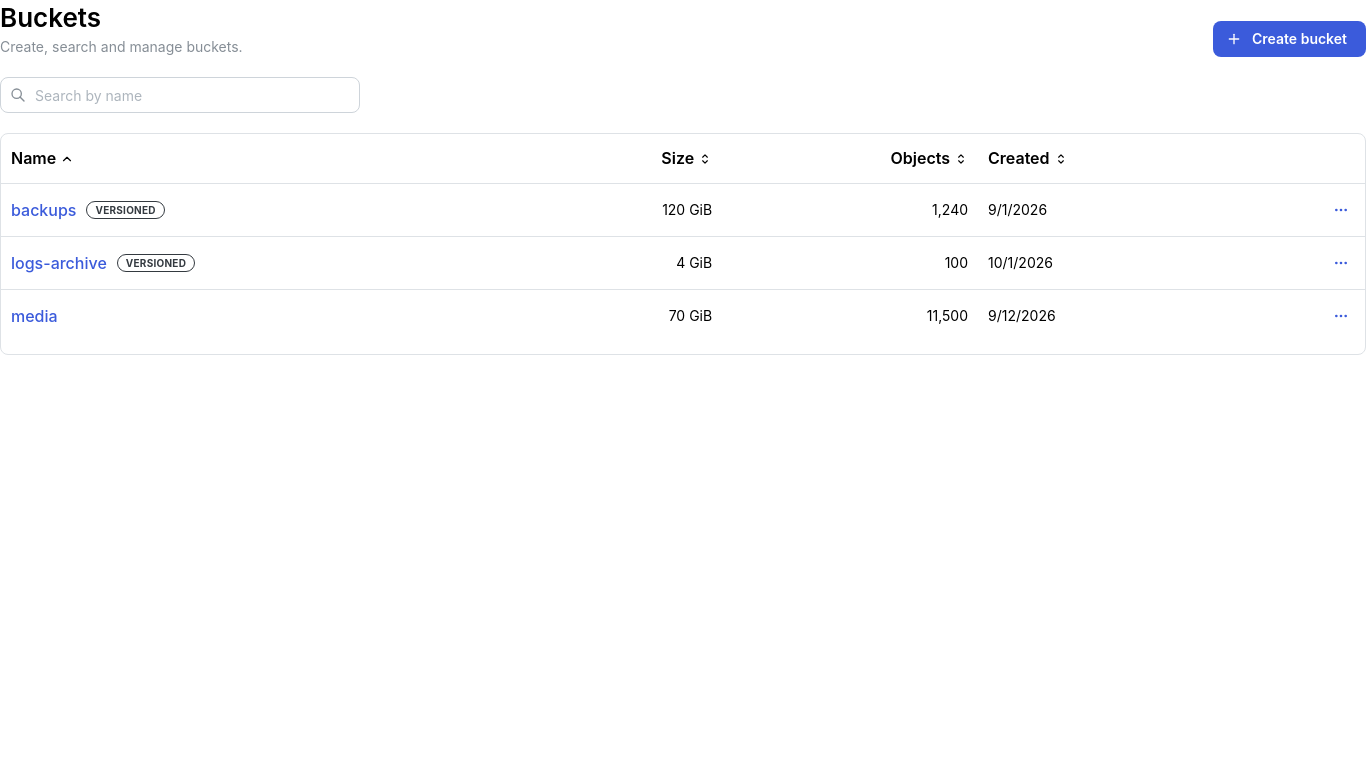
BucketsPage (TD-U-03) › deletes a bucket after typing its name, offering force for a non-empty one
The image size is (1366, 768).
Click the button named "Actions for media".
click(1341, 316)  # box x1=1327 y1=302 x2=1355 y2=330
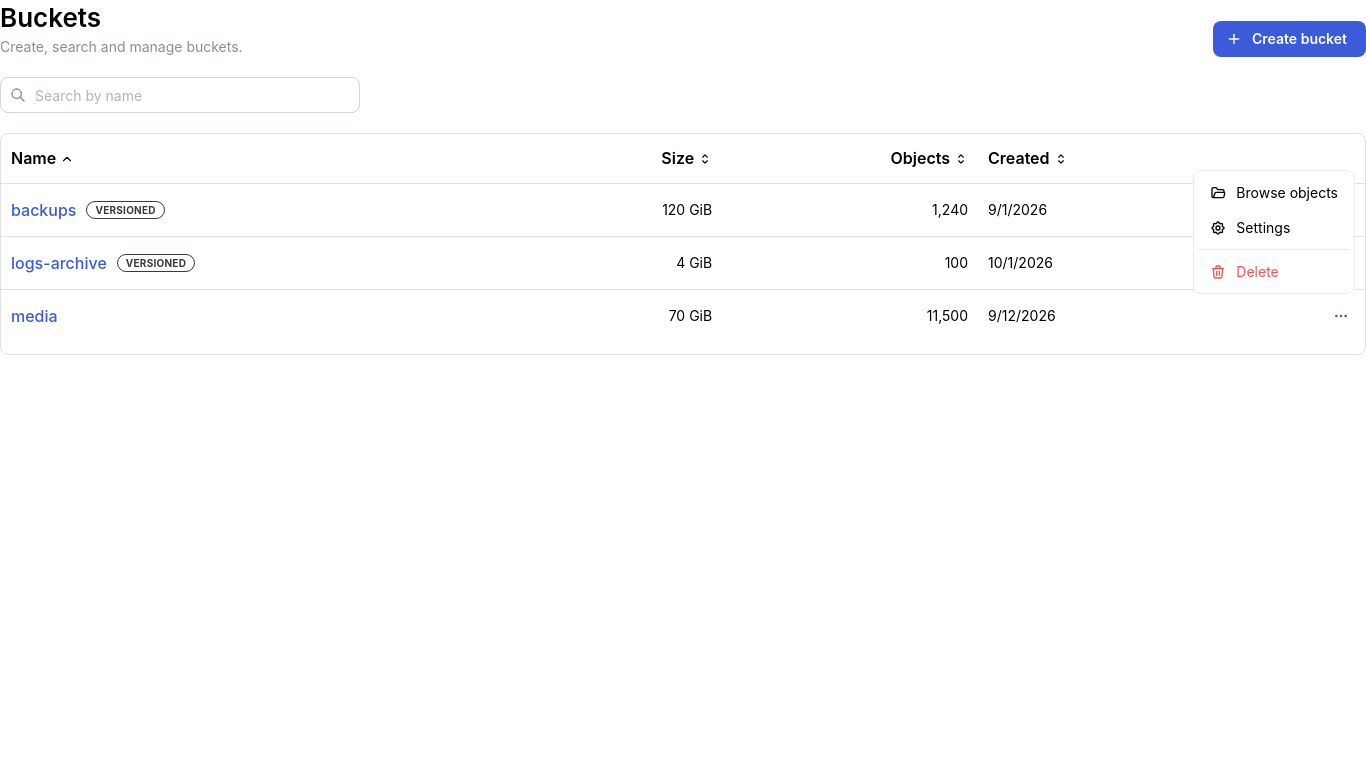
Click the menu item "Delete".
click(1274, 272)  # box x1=1198 y1=254 x2=1350 y2=289
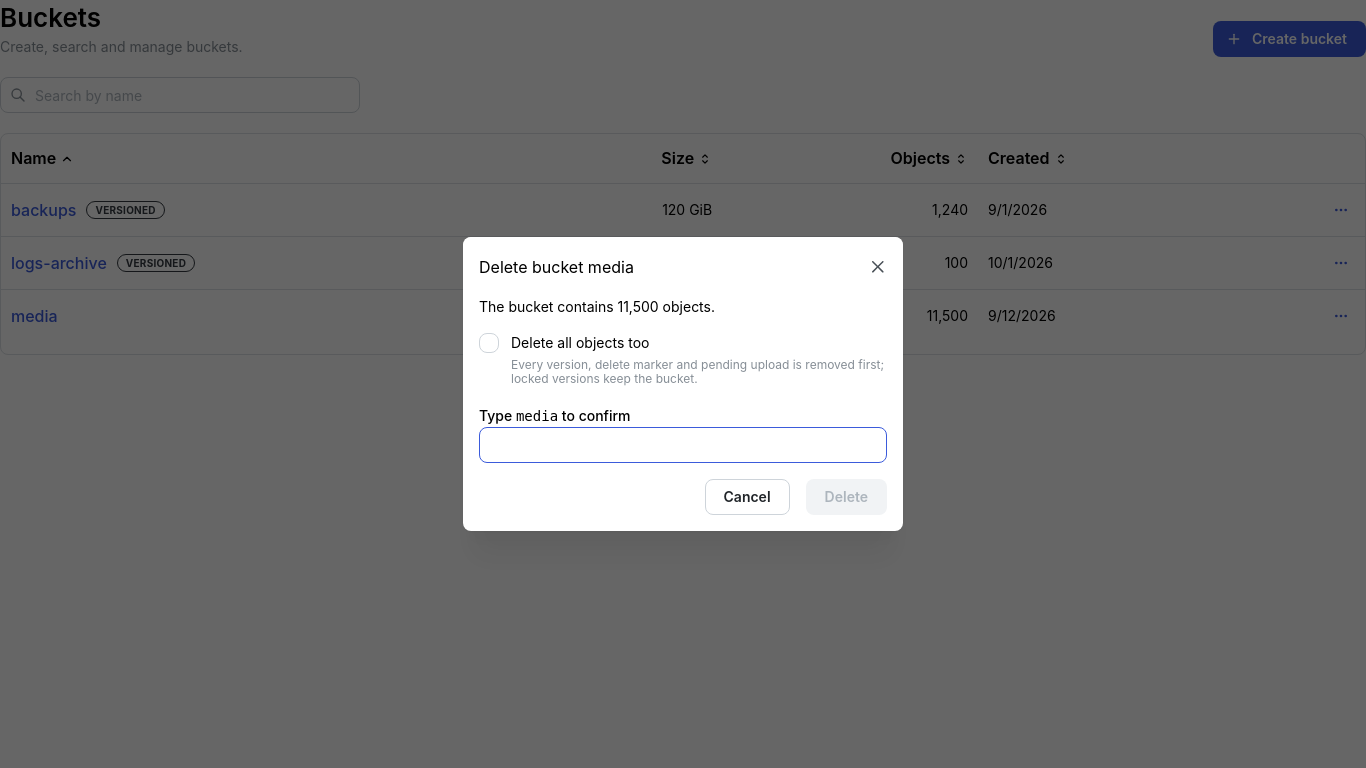
Expected: the button "Delete" is disabled, x1=806 y1=479 x2=887 y2=515
Type "media" into the field.
click(683, 445); type("media")  # box x1=479 y1=427 x2=887 y2=463
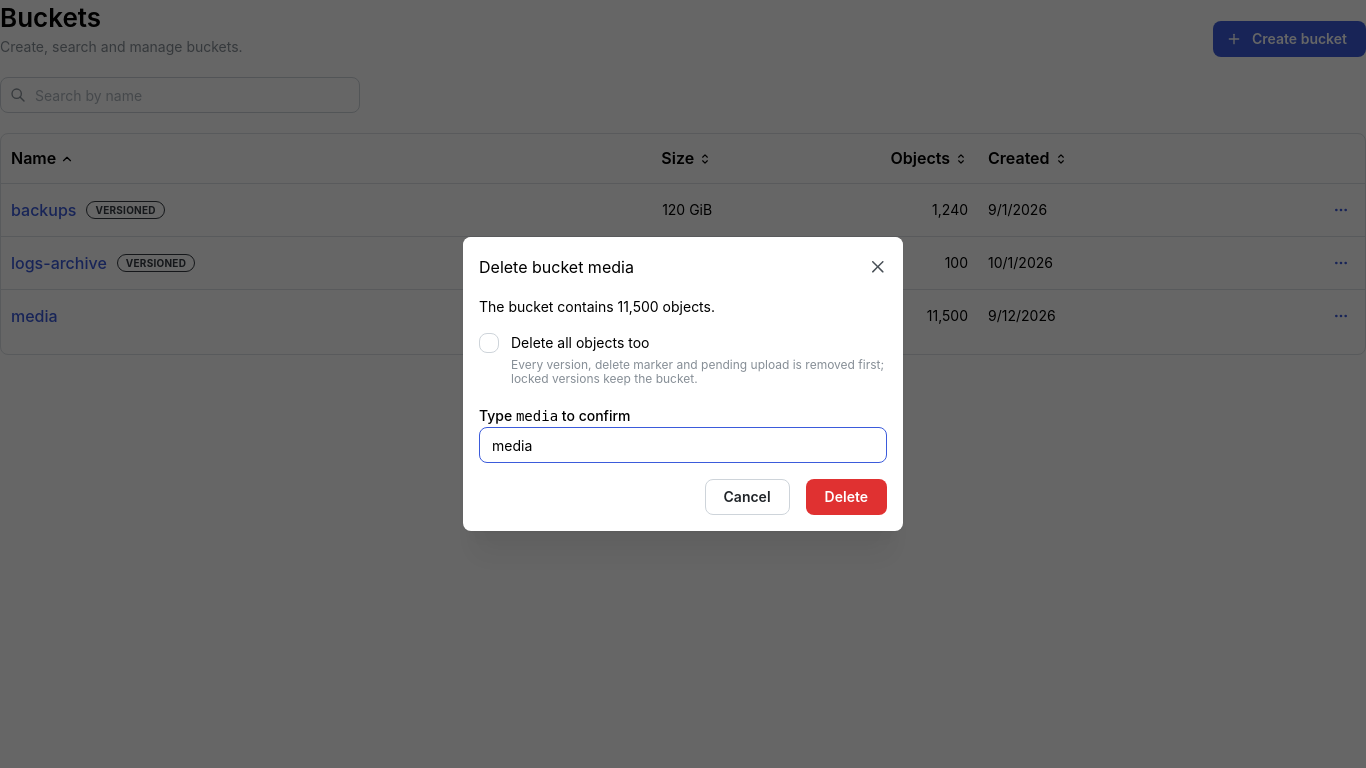
Click the button "Delete".
click(846, 497)  # box x1=806 y1=479 x2=887 y2=515
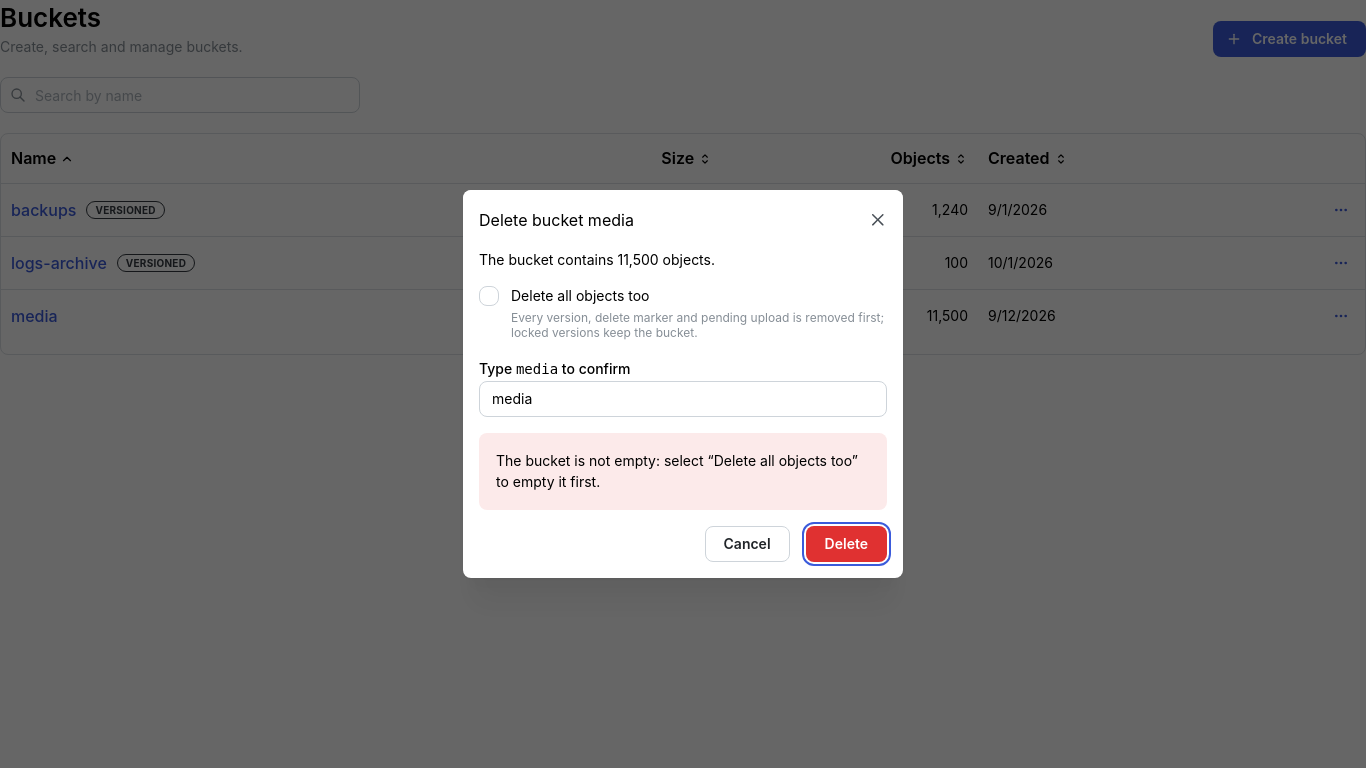
Expected: the message shows "The bucket is not empty", x1=496 y1=452 x2=858 y2=490
Click the checkbox labelled "Delete all objects too".
click(489, 296)  # box x1=479 y1=286 x2=499 y2=306
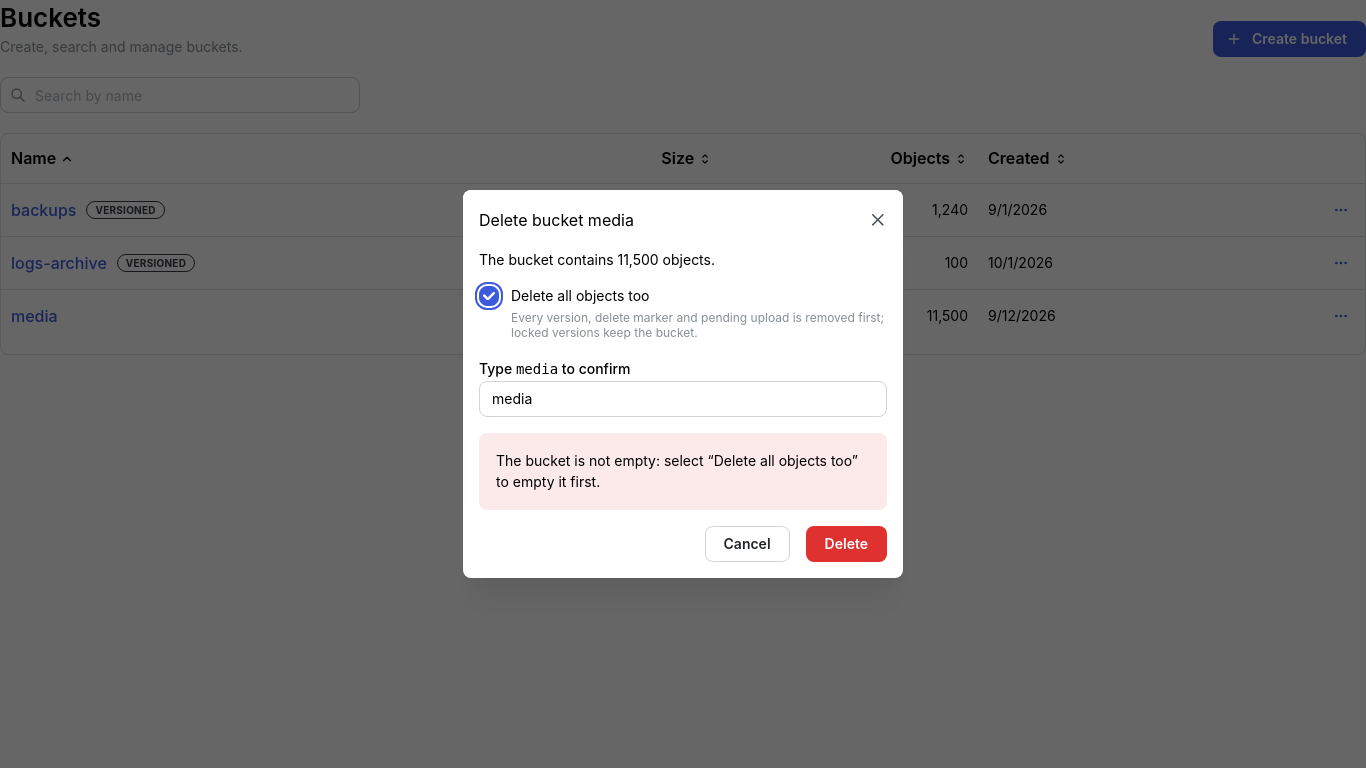
Click the button "Delete".
click(846, 544)  # box x1=806 y1=526 x2=887 y2=562
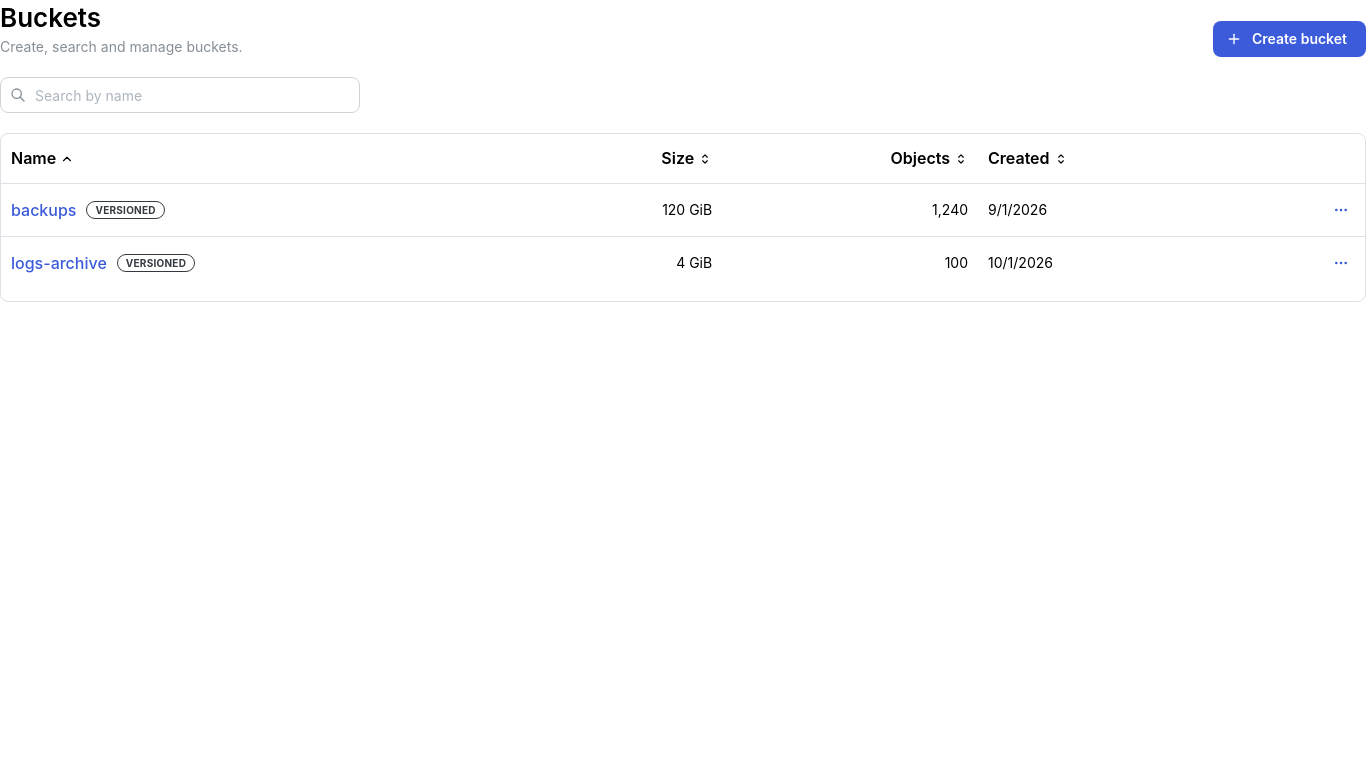
Expected: the link "media" is gone
